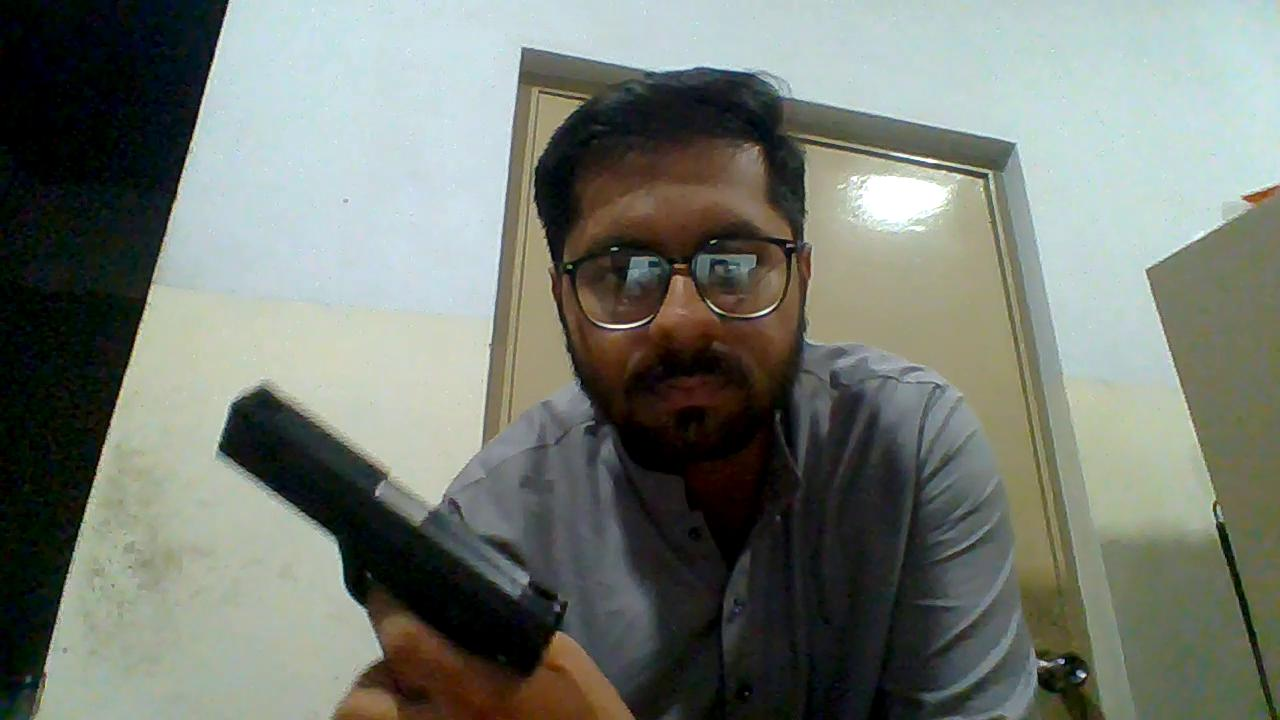criminal: (214, 63, 1043, 720)
weapon: (214, 377, 567, 680)
